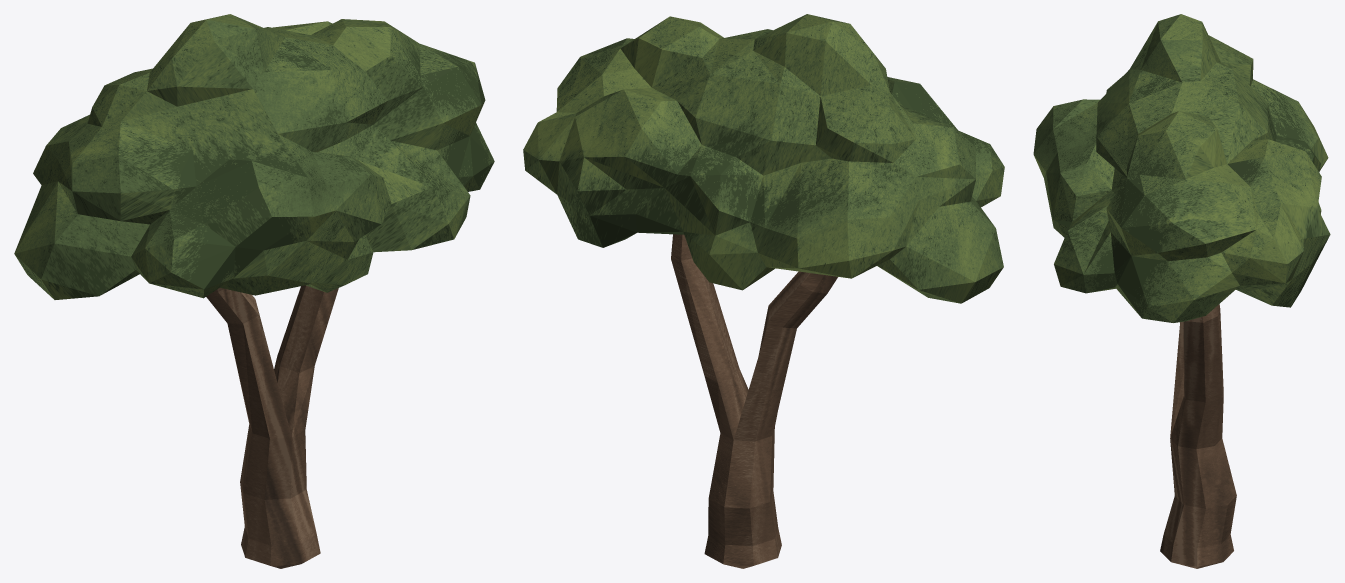
File: Tree05.fbx
3 views of the same model, side by side, from view 1: azimuth 30°, elevation 25°; view 2: azimuth 150°, elevation 25°; view 3: azimuth 270°, elevation 25° (orthographic). The views are drawn at different scales.
Parts seen in each view (by area): view 1: Tree05; view 2: Tree05; view 3: Tree05.
Boxes of the visible parts, bbox=[...] form: Tree05: bbox=[14, 14, 494, 568]; Tree05: bbox=[523, 14, 1004, 568]; Tree05: bbox=[1033, 14, 1330, 568].
Size of the model in its own units: 425 by 520 by 270.
